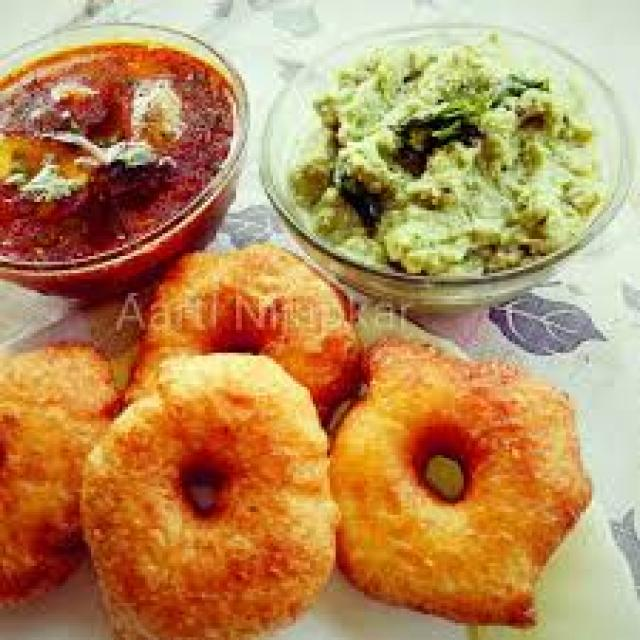MEDU VADA: (330, 336, 589, 623), (82, 350, 336, 637), (137, 242, 356, 415), (0, 344, 117, 600)
